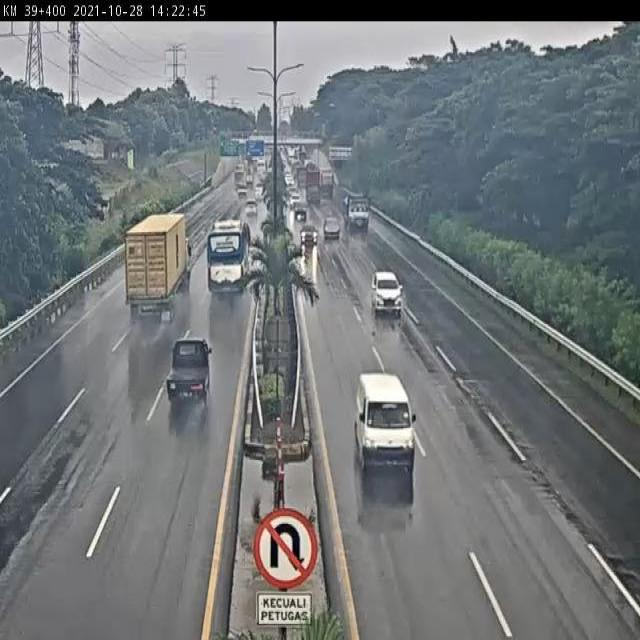bus-l-: (205, 217, 252, 299)
car: (165, 336, 214, 404)
truck-xl-: (122, 215, 195, 322)
